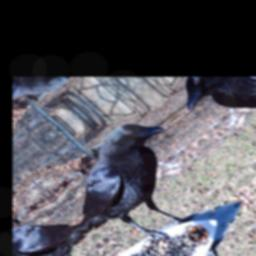Crow: (38, 108, 234, 256)
